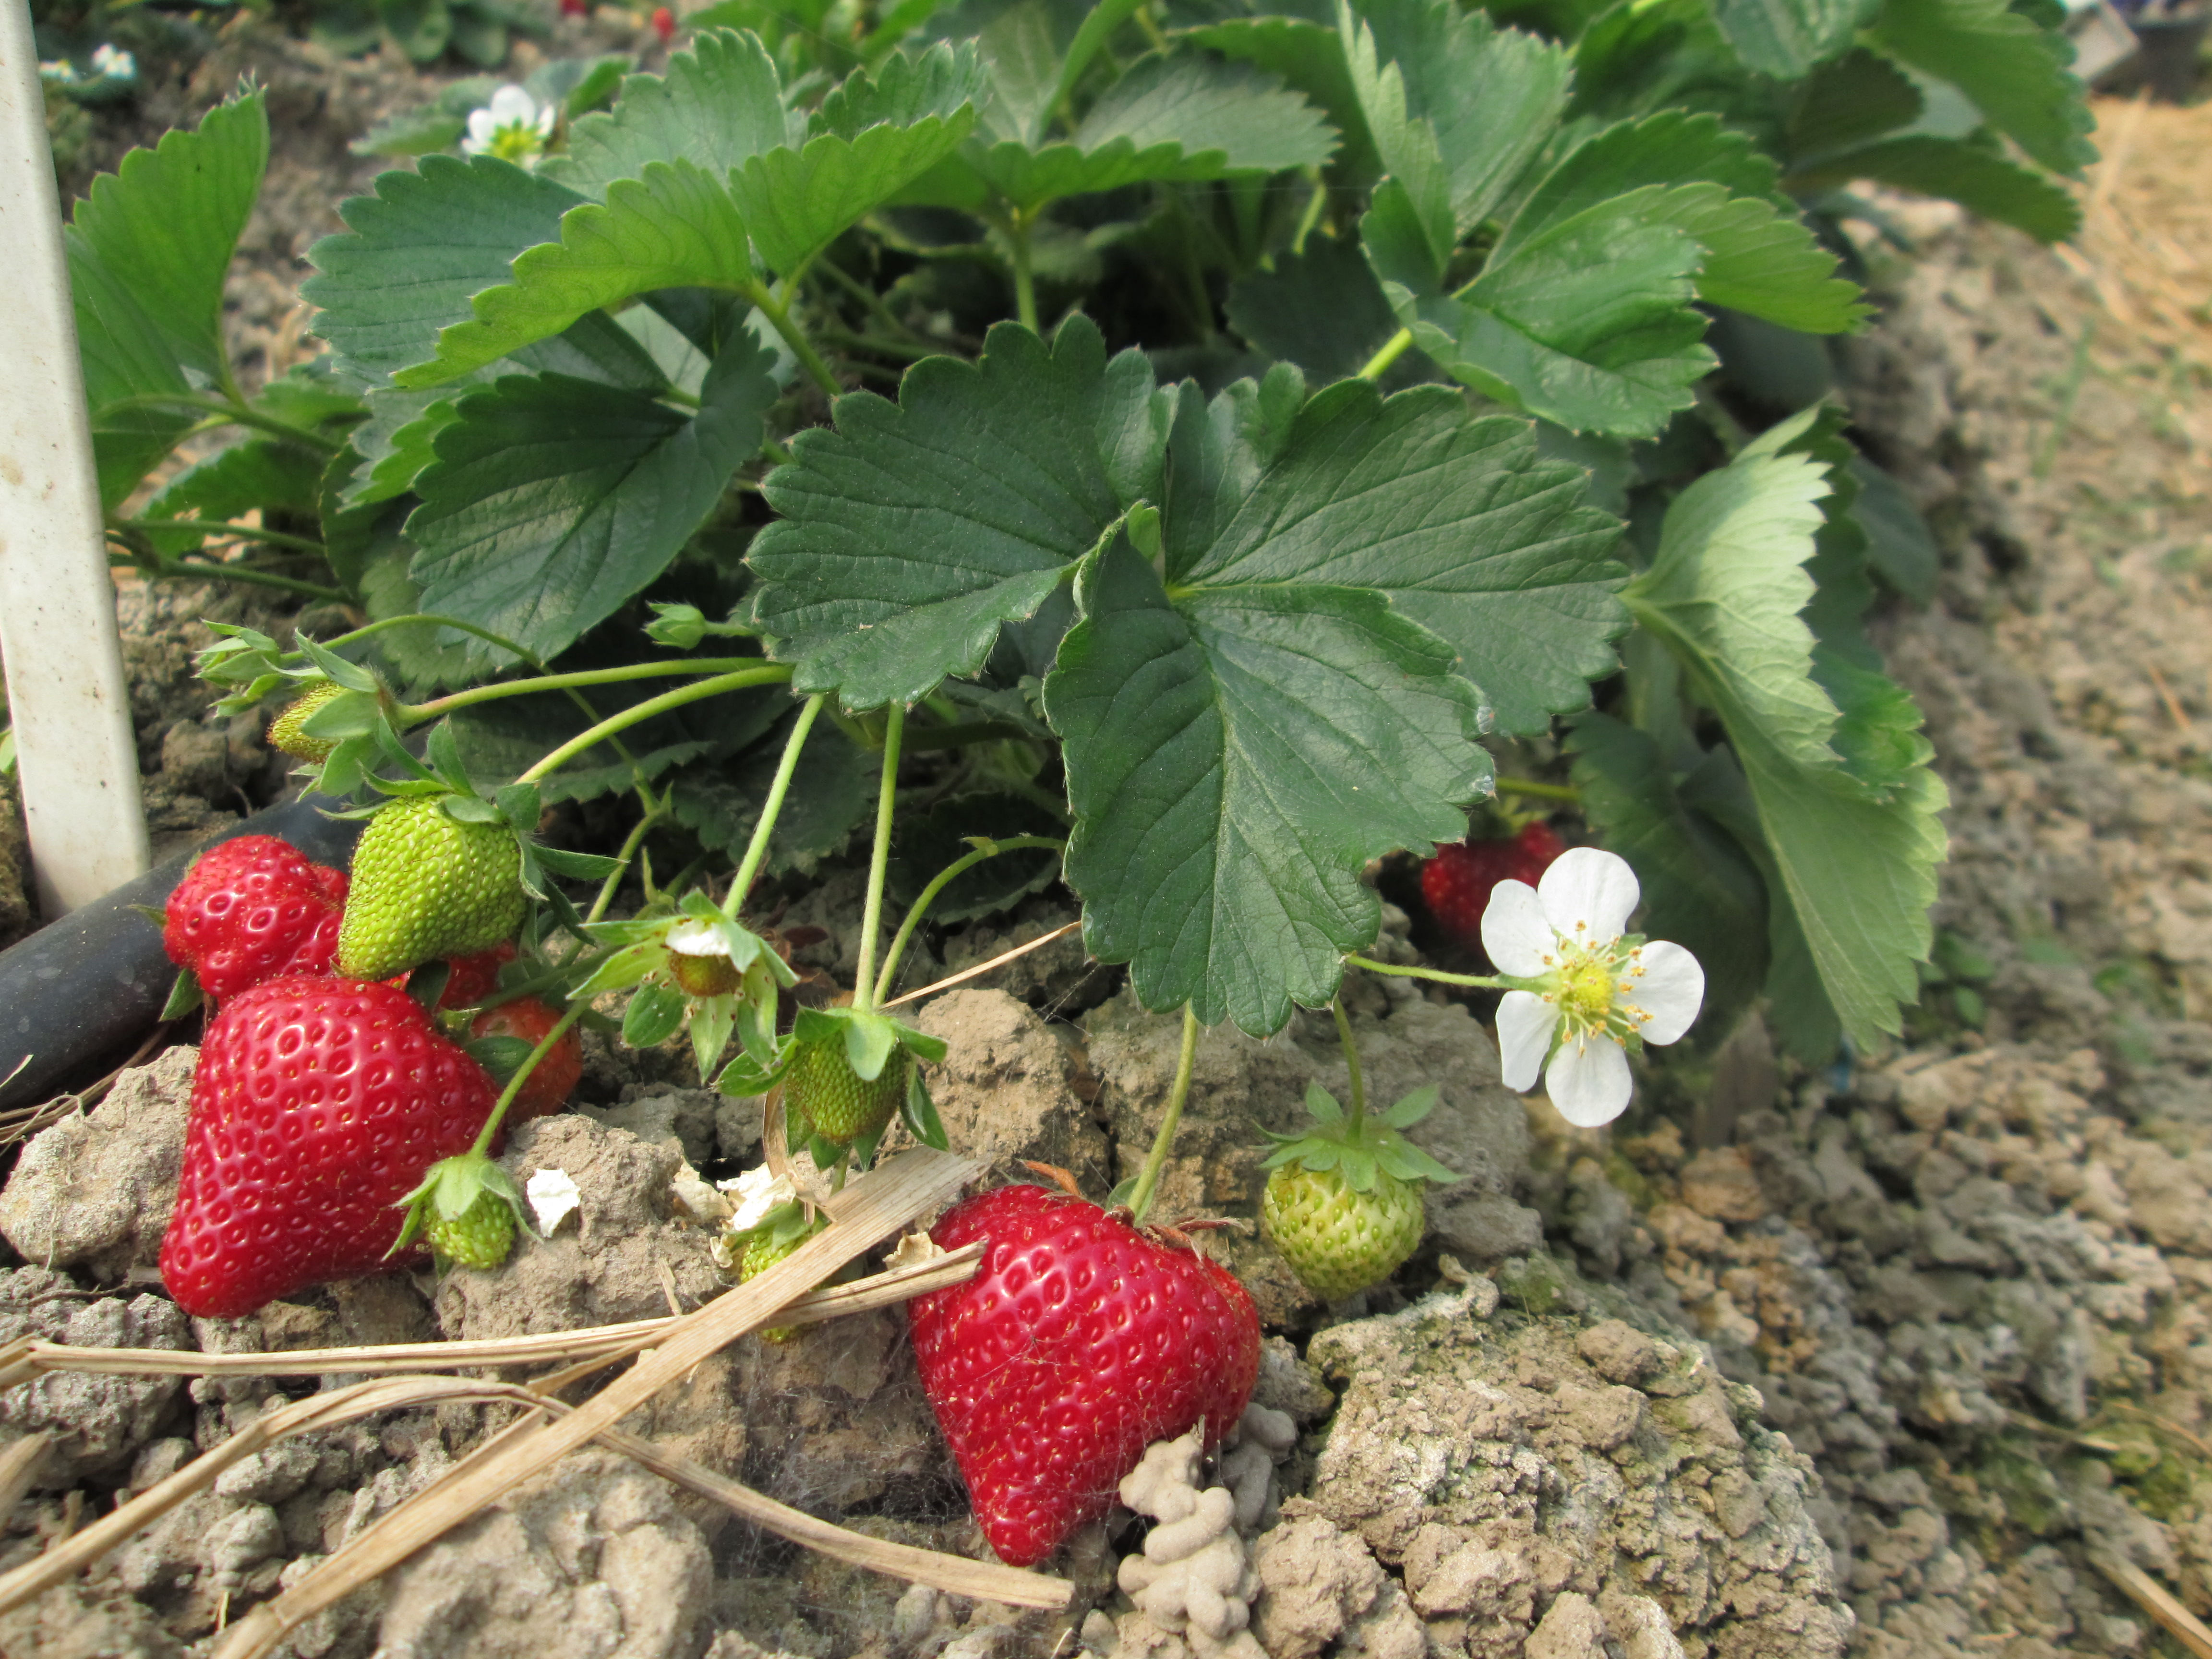StrawberryCircular: (907, 1183, 1268, 1556)
StrawberryCone: (148, 967, 519, 1331)
StrawberryIrremovable: (329, 779, 540, 985), (368, 932, 590, 1126), (1261, 1136, 1433, 1303), (728, 1199, 850, 1354), (789, 1028, 909, 1148), (256, 678, 395, 763), (420, 1157, 523, 1270), (653, 913, 754, 1011)
StrawberryOther: (153, 831, 357, 1016), (1404, 793, 1588, 955)
StrawberryRemovable: (148, 969, 514, 1324), (913, 1188, 1263, 1558), (158, 833, 355, 1006), (1413, 798, 1592, 958)
